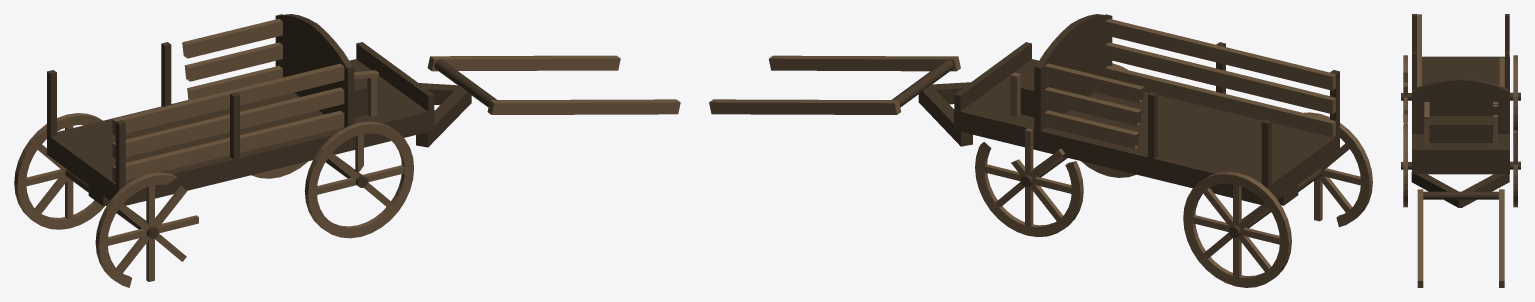
The model's file is HorseCartShattered.glb.
3 views of the same model, side by side, from view 1: azimuth 30°, elevation 25°; view 2: azimuth 150°, elevation 25°; view 3: azimuth 270°, elevation 25° (orthographic). The views are drawn at different scales.
Visible parts, largest first — view 1: Cart_cell.019, Cart_cell.022, Cart_cell.020, Cart_cell.078, Cart_cell.092, Cart_cell.039, Cart_cell.087, Cart_cell.051, Cart_cell.025, Cart_cell.009, Cart_cell.056, Cart_cell.082 (+24 smaller); view 2: Cart_cell.019, Cart_cell.022, Cart_cell.092, Cart_cell.025, Cart_cell.020, Cart_cell.087, Cart_cell.039, Cart_cell.051, Cart_cell.082, Cart_cell.083, Cart_cell.032, Cart_cell.084 (+21 smaller); view 3: Cart_cell.019, Cart_cell.020, Cart_cell.008, Cart_cell.030, Cart_cell.091, Cart_cell.039, Cart_cell.087, Cart_cell.038, Cart_cell.010, Cart_cell.005, Cart_cell.025, Cart_cell.022 (+21 smaller).
Part boxes in pixels (<box>): Cart_cell.019: <box>47,59,434,205</box>; Cart_cell.022: <box>112,63,344,135</box>; Cart_cell.020: <box>275,14,352,128</box>; Cart_cell.078: <box>304,121,413,238</box>; Cart_cell.092: <box>112,87,344,158</box>; Cart_cell.039: <box>487,99,680,114</box>; Cart_cell.087: <box>427,55,620,71</box>; Cart_cell.051: <box>170,110,344,169</box>; Cart_cell.025: <box>14,113,104,229</box>; Cart_cell.009: <box>155,152,258,198</box>; Cart_cell.056: <box>113,115,229,156</box>; Cart_cell.082: <box>182,18,282,58</box>; Cart_cell.019: <box>954,59,1339,204</box>; Cart_cell.022: <box>1105,18,1335,90</box>; Cart_cell.092: <box>1105,42,1335,114</box>; Cart_cell.025: <box>1183,171,1291,287</box>; Cart_cell.020: <box>1035,14,1112,130</box>; Cart_cell.087: <box>709,99,901,114</box>; Cart_cell.039: <box>769,55,960,71</box>; Cart_cell.051: <box>1105,65,1276,123</box>; Cart_cell.082: <box>1044,63,1144,102</box>; Cart_cell.083: <box>1044,87,1141,125</box>; Cart_cell.032: <box>954,42,1031,111</box>; Cart_cell.084: <box>1044,110,1139,147</box>; Cart_cell.019: <box>1412,56,1509,174</box>; Cart_cell.020: <box>1413,78,1508,133</box>; Cart_cell.008: <box>1429,116,1492,142</box>; Cart_cell.030: <box>1412,148,1509,160</box>; Cart_cell.091: <box>1429,125,1492,142</box>; Cart_cell.039: <box>1417,189,1423,287</box>; Cart_cell.087: <box>1499,189,1504,287</box>; Cart_cell.038: <box>1420,191,1480,199</box>; Cart_cell.010: <box>1412,14,1465,74</box>; Cart_cell.005: <box>1430,180,1478,207</box>; Cart_cell.025: <box>1513,55,1517,131</box>; Cart_cell.022: <box>1417,14,1421,87</box>.
Bounding box in the file's own units: 9.96 × 2.93 × 2.58.
